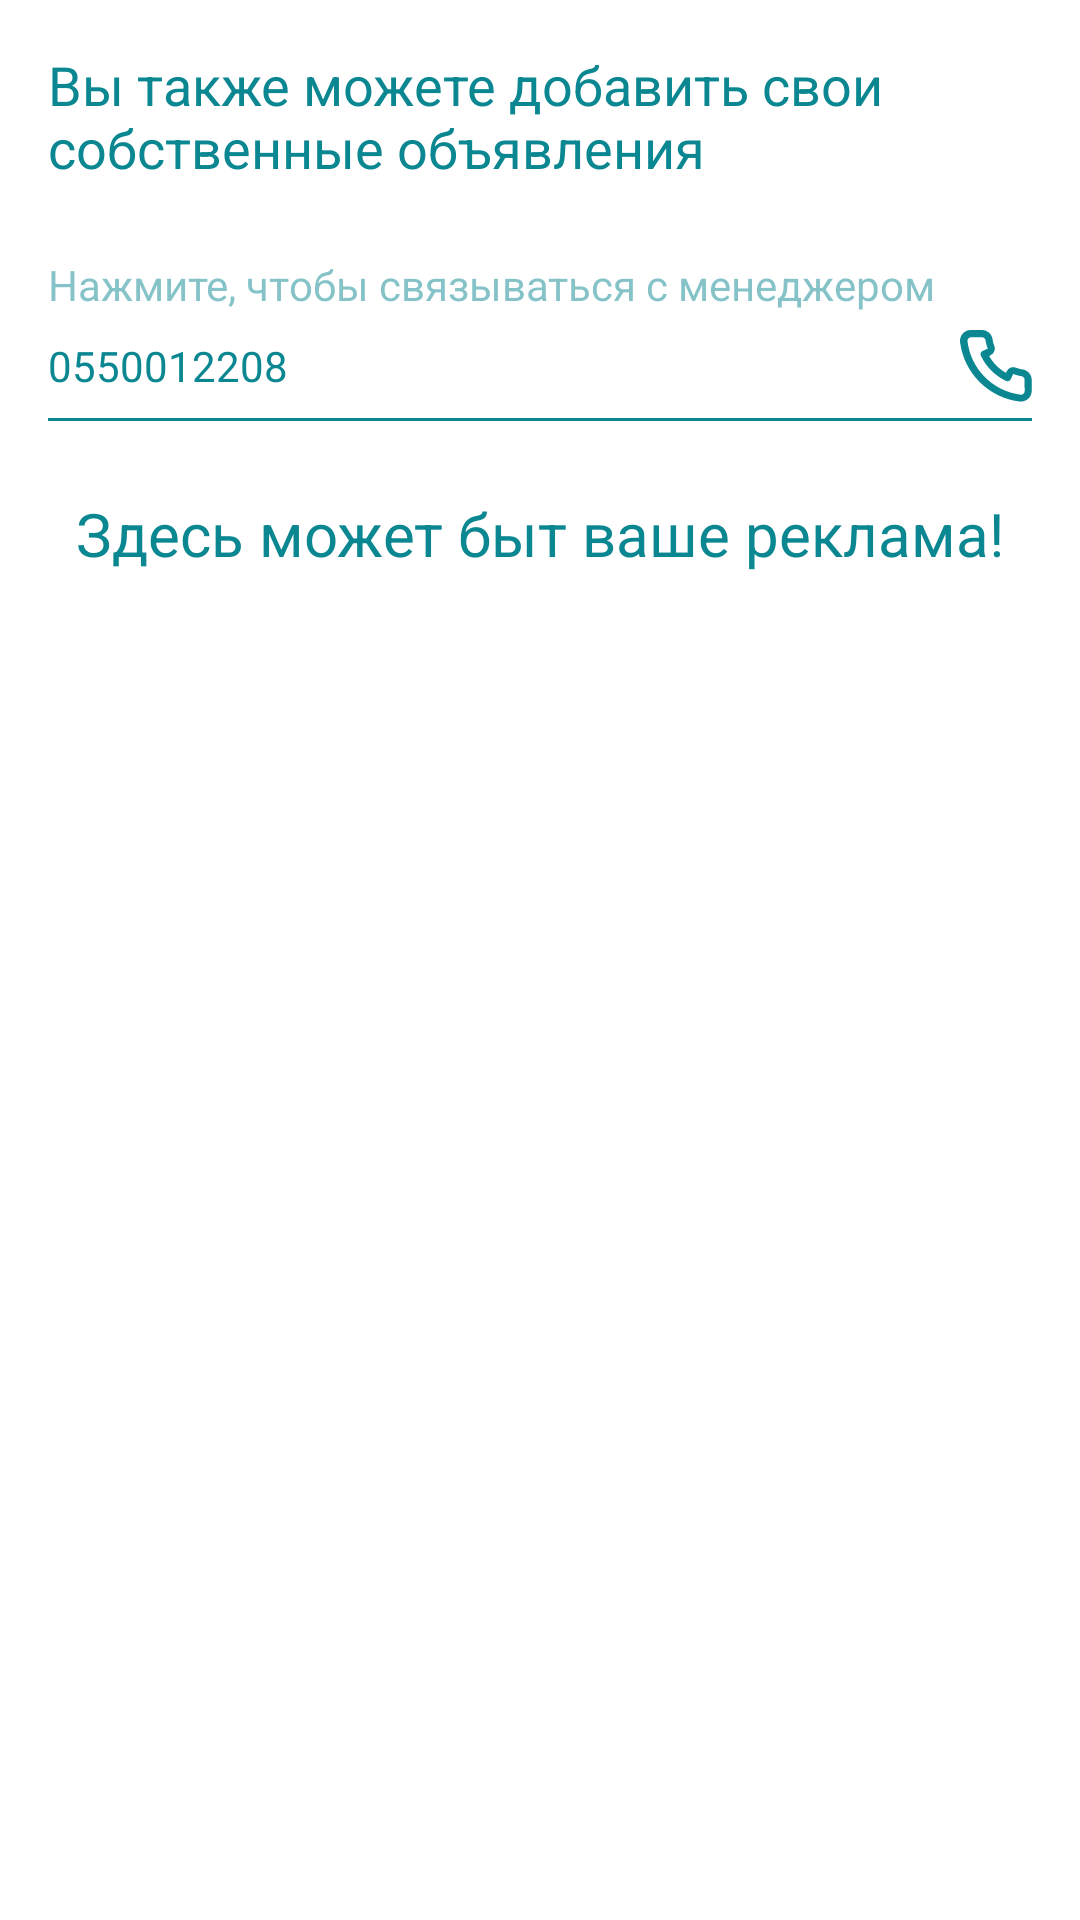

Named icons in this screenshot (1080x1920) and their centers, (x,y):
phone: (996,366)
